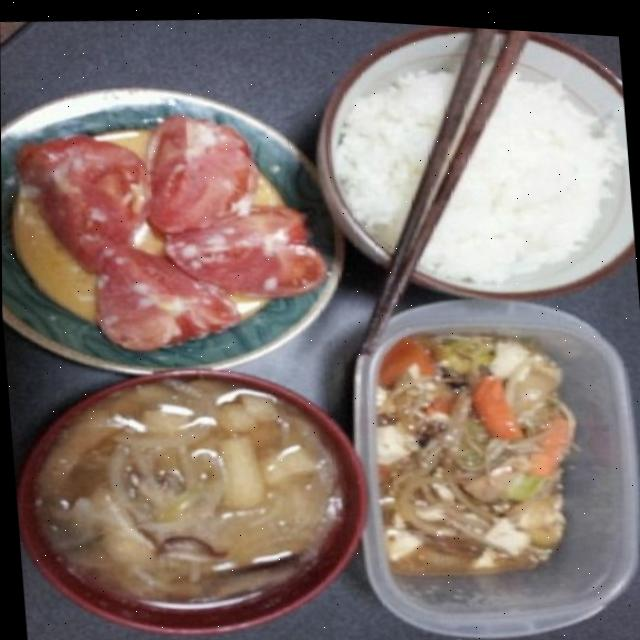米饭主食: (300, 14, 639, 321)
